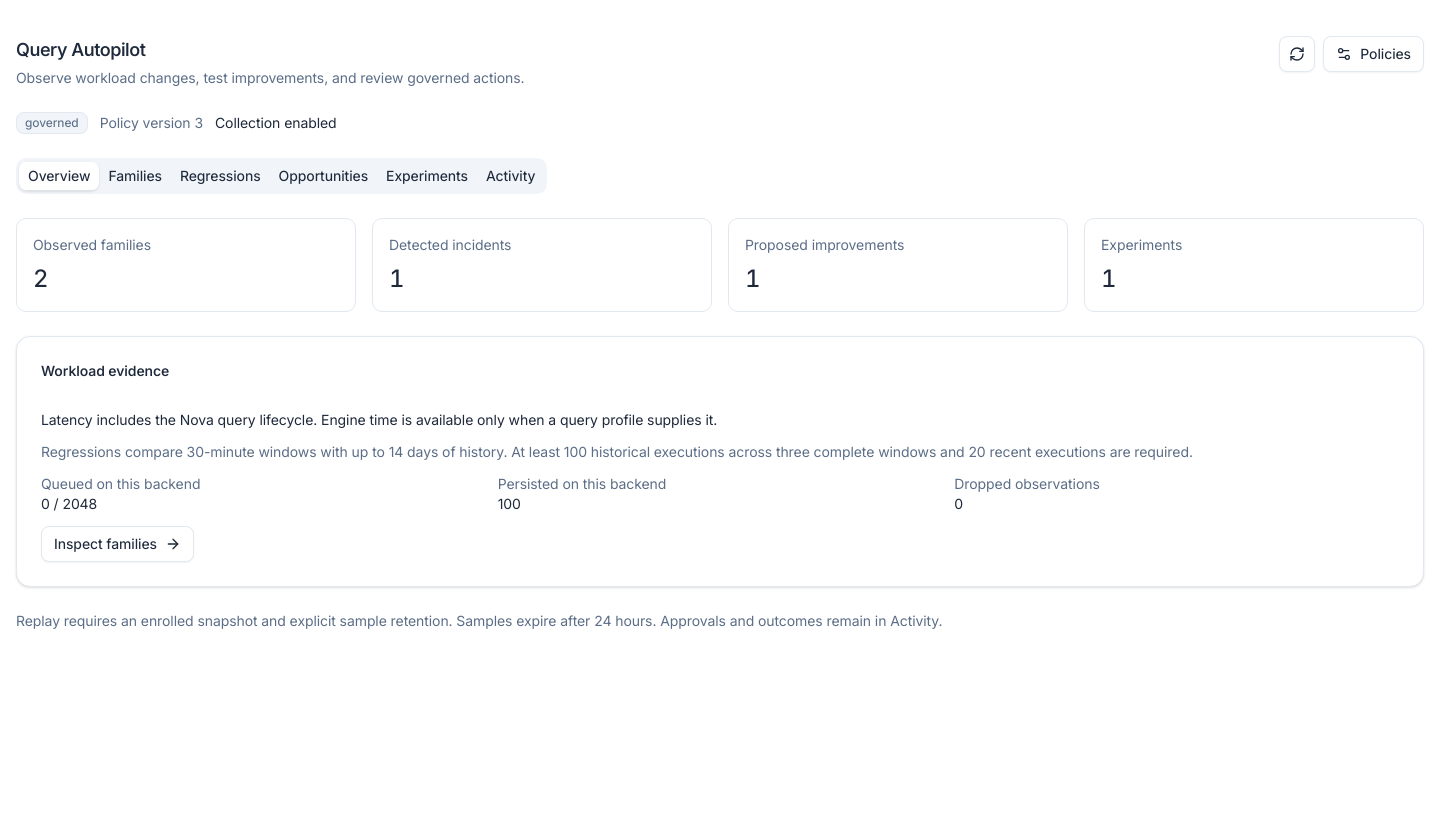
it: shows structural plan changes with planner estimates and measured outcomes
Click the tab "Opportunities": (323, 176) [270,162,377,190]
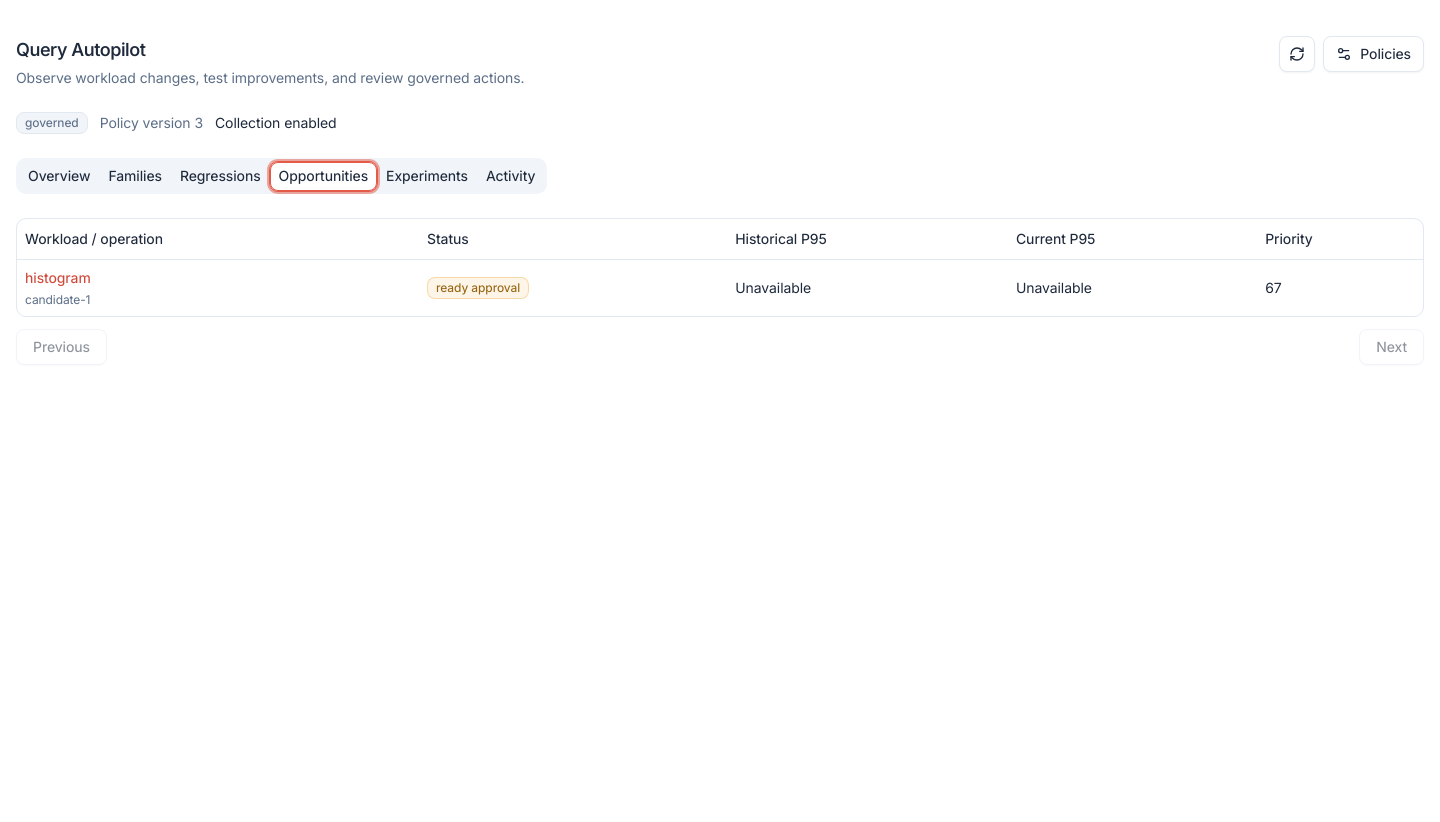
Click the button named "histogram candidate-1": (58, 278) [25,268,91,288]
(page scrolled)
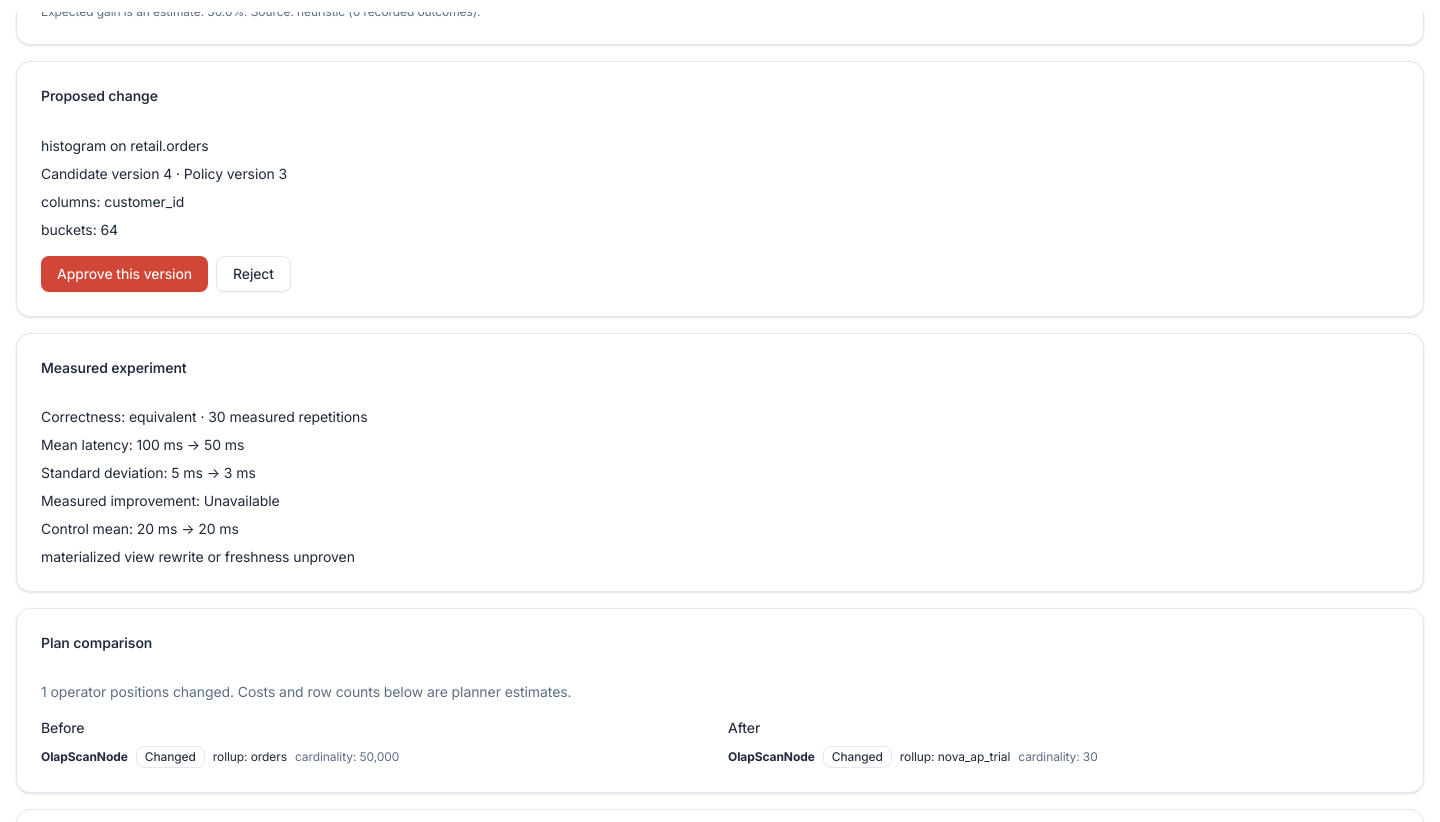
Check: the text "1 operator positions changed" is shown, box [41,683,572,700]
Check: the text "rollup: nova_ap_trial" is shown, box [900,749,1010,764]
Check: the text "Correctness: equivalent · 30 measured repetitions" is shown, box [41,408,368,425]
